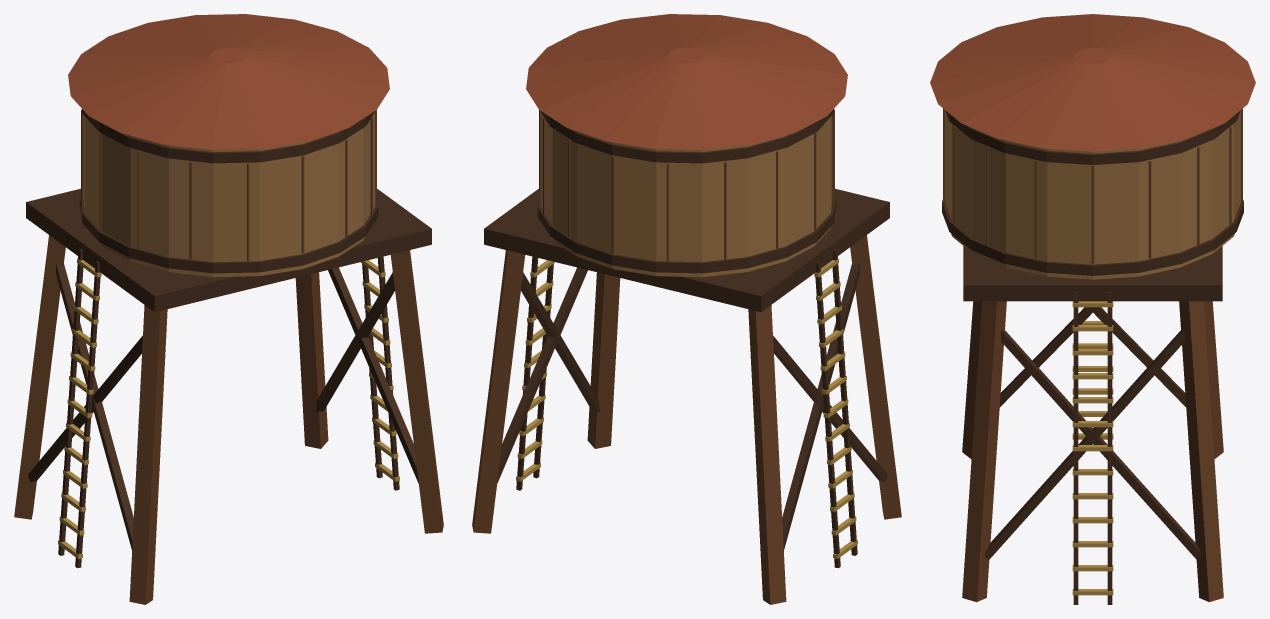
Rendered from Desert_WaterTowerGate_Showcase.glb.
3 renders of one model, left to right at view 1: azimuth 30°, elevation 25°; view 2: azimuth 150°, elevation 25°; view 3: azimuth 270°, elevation 25°, orthographic.
Parts seen in each view (by area): view 1: Desert_WaterTowerGate_Showcase; view 2: Desert_WaterTowerGate_Showcase; view 3: Desert_WaterTowerGate_Showcase.
Part boxes in pixels (<box>): Desert_WaterTowerGate_Showcase: <box>14,14,443,604</box>; Desert_WaterTowerGate_Showcase: <box>472,14,901,604</box>; Desert_WaterTowerGate_Showcase: <box>930,14,1255,604</box>.
Size of the model in its own units: 5.06 by 7.01 by 4.4.
